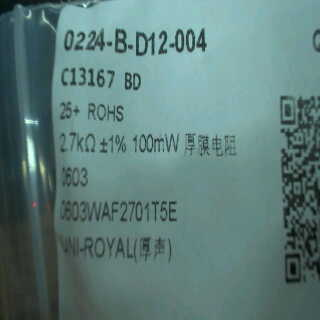2.7kR: (58, 130, 97, 156)
